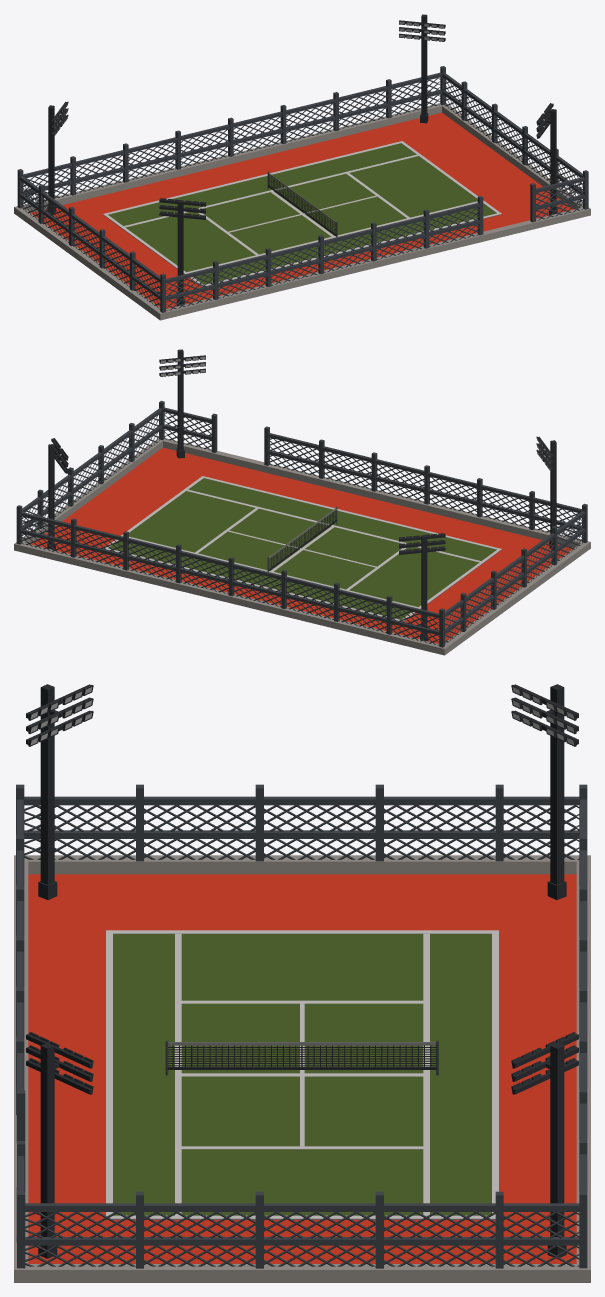
Rendered from TennisCourt_1.fbx.
3 views of the same model, one above another, from view 1: azimuth 30°, elevation 25°; view 2: azimuth 150°, elevation 25°; view 3: azimuth 270°, elevation 25° (orthographic). The views are drawn at different scales.
Visible parts, largest first — view 1: TennisCourt_1; view 2: TennisCourt_1; view 3: TennisCourt_1.
Part boxes in pixels (<box>): TennisCourt_1: <box>14,14,590,320</box>; TennisCourt_1: <box>14,349,590,655</box>; TennisCourt_1: <box>14,684,590,1282</box>.
Size of the model in its own units: 1521 by 362 by 895.
